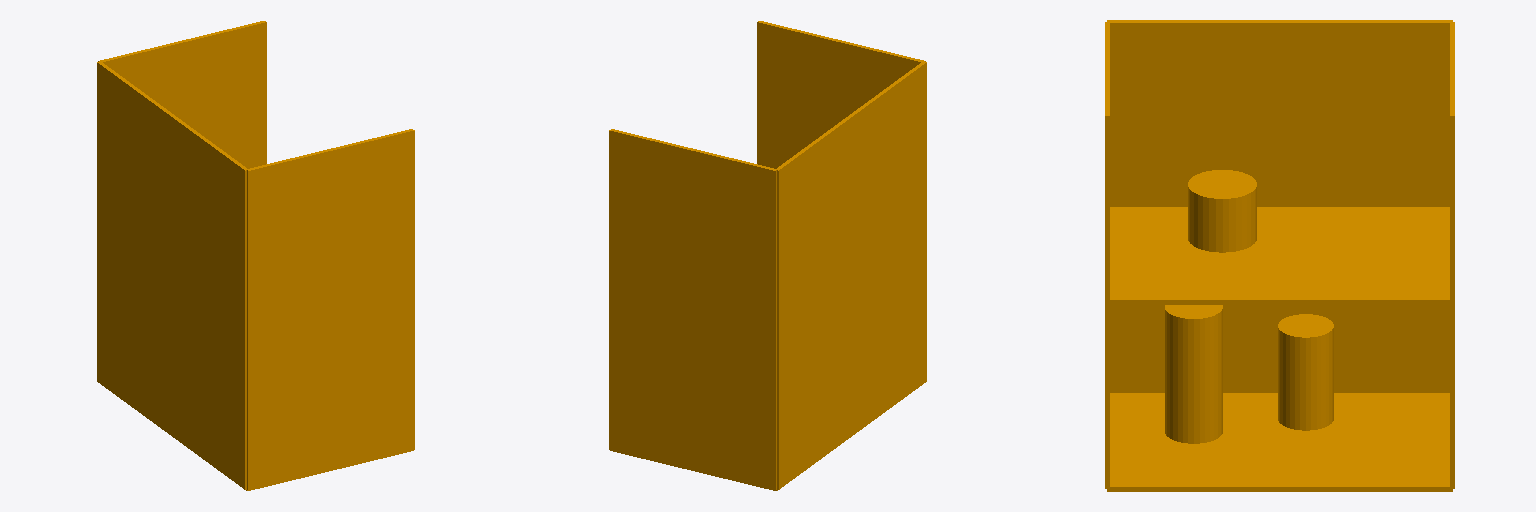
robot.urdf — syn_can_cabinet_468:
<?xml version="1.0" ?>
<robot name="syn_can_cabinet_468">
    <link concave="yes" name="base_link">
        <inertial>
            <origin rpy="0 0 0" xyz="0 0 0"/>
            <mass value="0.0"/>
            <inertia ixx="1e-08" ixy="0" ixz="0" iyy="1e-08" iyz="0" izz="1e-08"/>
        </inertial>
        <visual>
            <origin xyz="0 0 0" rpy="0 0 0" />
            <geometry>
                <mesh filename="syn_can_cabinet_468.obj" scale="1.000000 1.000000 1.000000"/>
            </geometry>         
        </visual>

        <collision concave="yes">
            <origin xyz="0 0 0" rpy="0 0 0"/>
            <geometry>
                <mesh filename="syn_can_cabinet_468.obj" scale="1.000000 1.000000 1.000000"/>
            </geometry>
        </collision>
    </link>
</robot>
    

--- Facts derived from the render (not from the file) ---
3 views of the same robot in one strip: view 1: azimuth 30°, elevation 25°; view 2: azimuth 150°, elevation 25°; view 3: azimuth 270°, elevation 25° (orthographic).
Robot: syn_can_cabinet_468 — 1 links, 0 joints (none); root link base_link; default pose: all joints at 0.
Visible links, largest first — view 1: base_link; view 2: base_link; view 3: base_link.
Link boxes in pixels (left/top/right/bottom): base_link: left=97, top=21, right=414, bottom=490; base_link: left=609, top=21, right=926, bottom=490; base_link: left=1105, top=20, right=1454, bottom=491.
Size in the robot's own frame: 0.2068 by 0.3199 by 0.3774 metres.
1 mesh visuals loaded from 1 distinct referenced files (1 OBJ).
